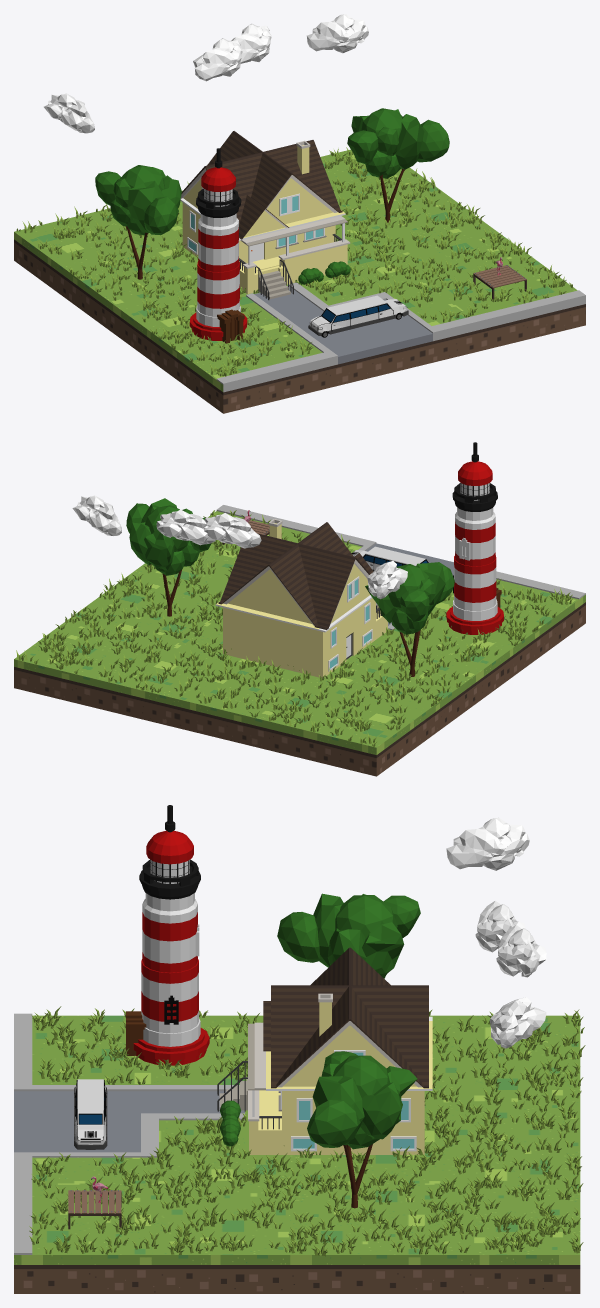
3 views of the same model, one above another, from view 1: azimuth 30°, elevation 25°; view 2: azimuth 150°, elevation 25°; view 3: azimuth 270°, elevation 25° (orthographic). The views are drawn at different scales.
Parts seen in each view (by area): view 1: Cube.006, Circle.012_Grass_0.192, Cube.1555, OBJRANDOM_LIGHTHOUSE, Cube.007, tree, tree.001, VEHICLES_LIMOUSINE, Cube.009; view 2: Cube.006, Cube.1555, Circle.012_Grass_0.192, OBJRANDOM_LIGHTHOUSE, Cube.007, tree.001, tree, VEHICLES_LIMOUSINE; view 3: Cube.006, Circle.012_Grass_0.192, Cube.1555, OBJRANDOM_LIGHTHOUSE, tree, Cube.007, tree.001, VEHICLES_LIMOUSINE, Cube.009.
Boxes of the visible parts, left/top/right/bottom form: Cube.006: left=14, top=149, right=585, bottom=413; Circle.012_Grass_0.192: left=16, top=147, right=573, bottom=376; Cube.1555: left=180, top=131, right=350, bottom=300; OBJRANDOM_LIGHTHOUSE: left=189, top=148, right=247, bottom=343; Cube.007: left=44, top=14, right=368, bottom=133; tree: left=347, top=108, right=449, bottom=222; tree.001: left=95, top=165, right=181, bottom=279; VEHICLES_LIMOUSINE: left=308, top=295, right=408, bottom=337; Cube.009: left=473, top=265, right=526, bottom=299; Cube.006: left=14, top=505, right=585, bottom=776; Cube.1555: left=215, top=519, right=387, bottom=678; Circle.012_Grass_0.192: left=16, top=510, right=572, bottom=746; OBJRANDOM_LIGHTHOUSE: left=446, top=442, right=503, bottom=634; Cube.007: left=72, top=495, right=407, bottom=599; tree.001: left=365, top=562, right=454, bottom=676; tree: left=126, top=498, right=211, bottom=616; VEHICLES_LIMOUSINE: left=351, top=546, right=428, bottom=571; Cube.006: left=14, top=1013, right=580, bottom=1293; Circle.012_Grass_0.192: left=29, top=1006, right=585, bottom=1256; Cube.1555: left=217, top=947, right=432, bottom=1154; OBJRANDOM_LIGHTHOUSE: left=126, top=805, right=209, bottom=1065; tree: left=307, top=1051, right=417, bottom=1208; Cube.007: left=446, top=817, right=546, bottom=1048; tree.001: left=277, top=893, right=420, bottom=978; VEHICLES_LIMOUSINE: left=74, top=1079, right=107, bottom=1149; Cube.009: left=68, top=1190, right=121, bottom=1229.
Size of the model in its own units: 4071 by 2310 by 4040.
Materials: 42 (4 with a texture image).
